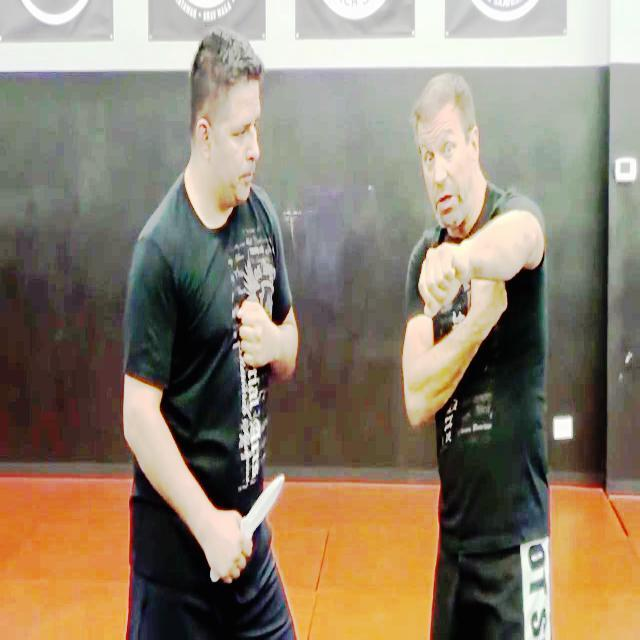Knife: (202, 470, 288, 585)
